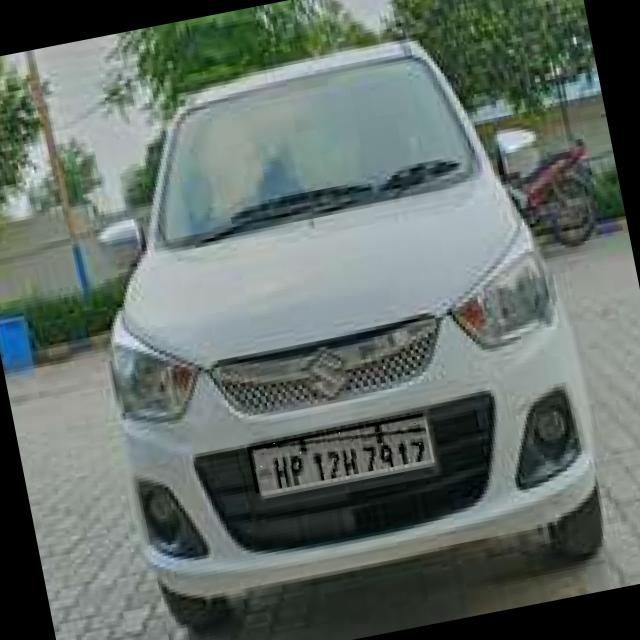Plate: (248, 415, 433, 495)
